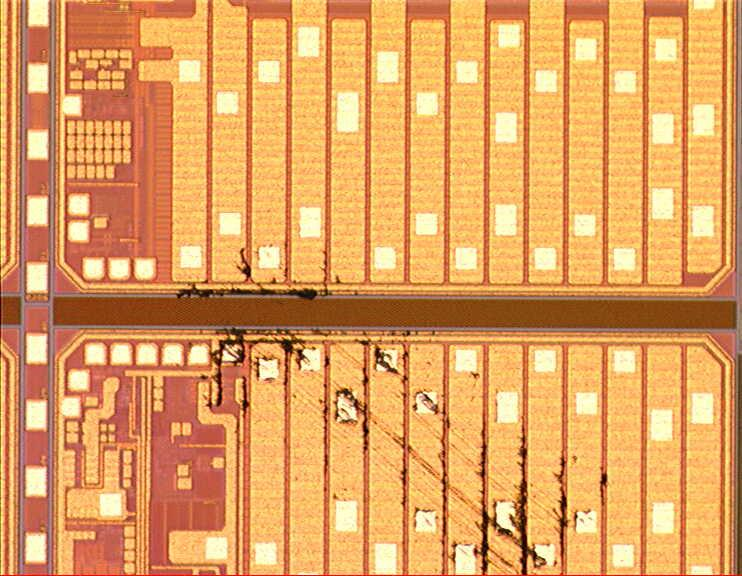SCRATCH: (172, 241, 612, 576)
